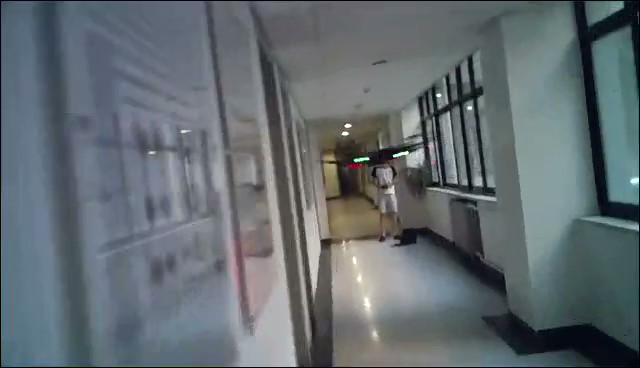drone: (320, 131, 440, 183)
person: (373, 161, 405, 242)
